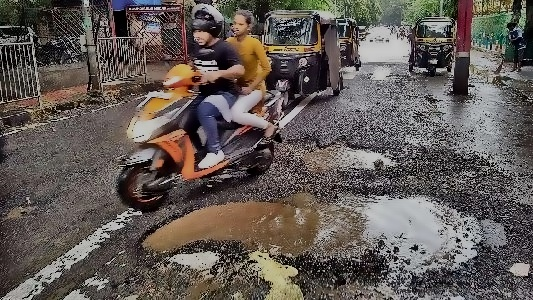pothole: (134, 190, 486, 271), (298, 136, 400, 172)
